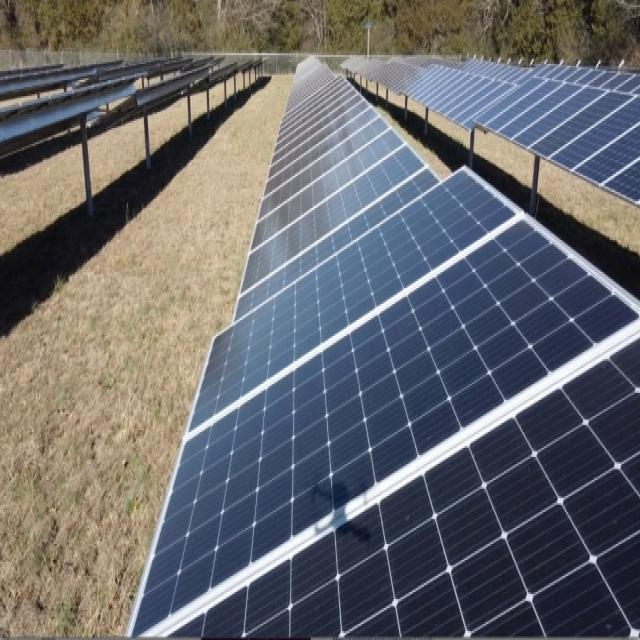clean-solar-panel: (129, 58, 640, 637), (408, 64, 640, 201)
